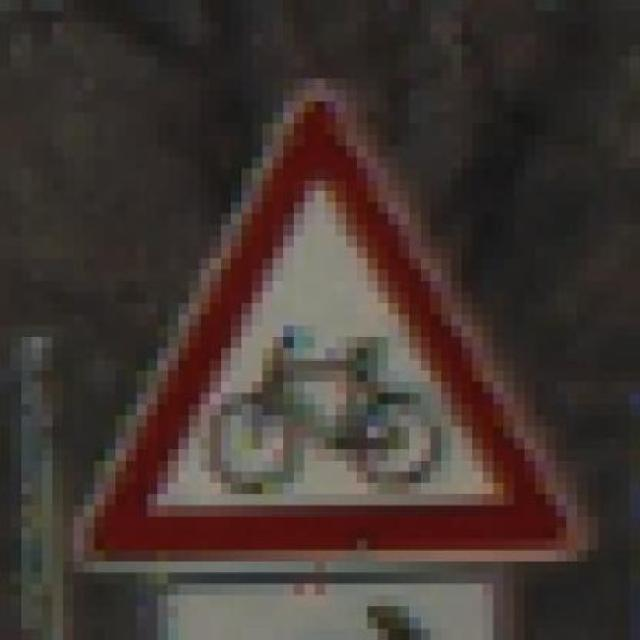CYCLE ROUTE AHEAD WARNING: (52, 56, 610, 562)
